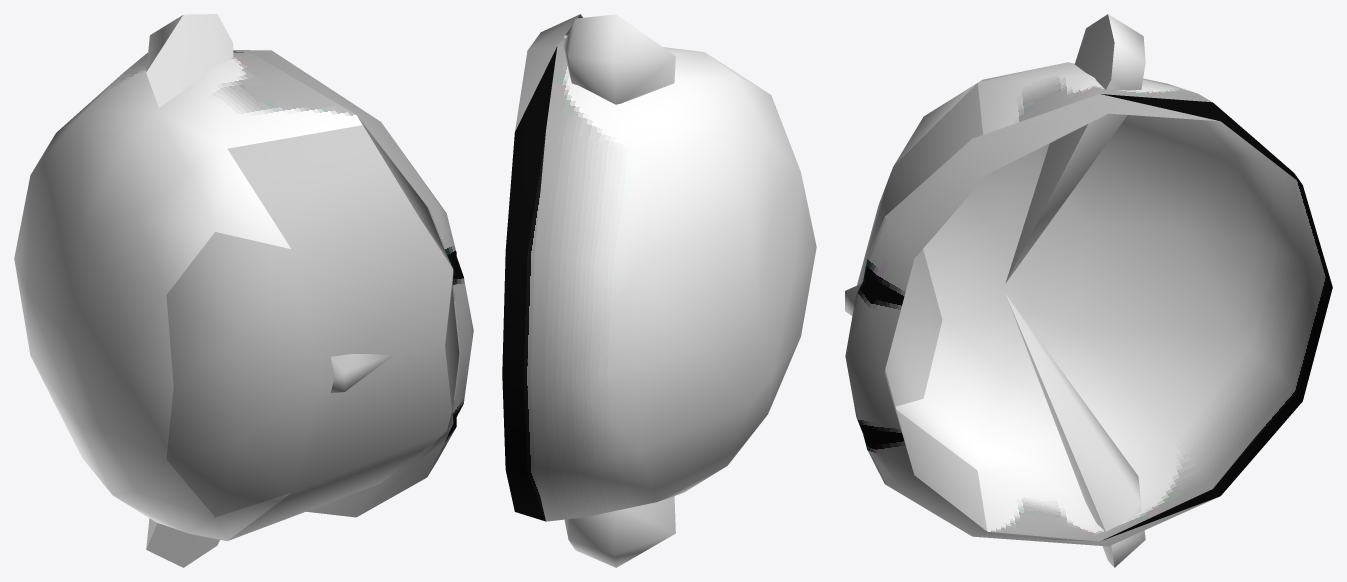
The model's file is boy06b.dae.
The picture shows the model from 3 angles, left to right: view 1: azimuth 30°, elevation 25°; view 2: azimuth 150°, elevation 25°; view 3: azimuth 270°, elevation 25°; orthographic projection.
Parts seen in each view (by area): view 1: vsn_mesh_0_, vsn_mesh_1_, vsn_mesh_2_; view 2: vsn_mesh_0_; view 3: vsn_mesh_0_, vsn_mesh_1_, vsn_mesh_2_.
Boxes of the visible parts, x1,y1,x2,y2 form: vsn_mesh_0_: (14, 14, 473, 567); vsn_mesh_1_: (227, 125, 453, 540); vsn_mesh_2_: (166, 232, 321, 517); vsn_mesh_0_: (502, 14, 816, 567); vsn_mesh_0_: (845, 14, 1332, 567); vsn_mesh_1_: (845, 83, 987, 531); vsn_mesh_2_: (857, 169, 942, 406).
Size of the model in its own units: 15.51 by 26.71 by 21.59.
3 materials, 1 textured.
